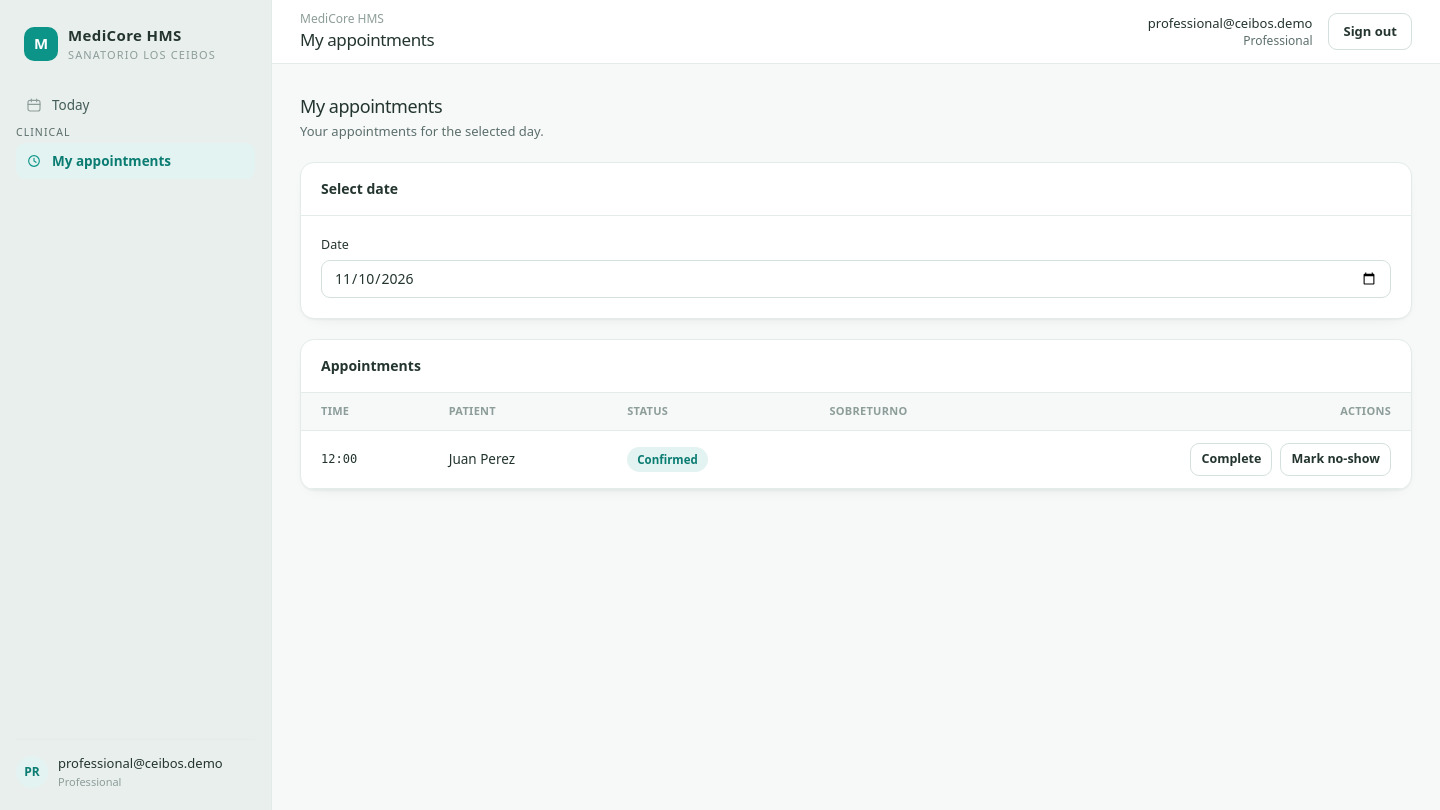
Test: MyAppointmentsPage › completes an appointment and refreshes the list
The image size is (1440, 810).
expect the text "Juan Perez" is shown: met, box [429, 430, 607, 488]
Step 1. Click the button with aria-label "complete appointment" → point(1231, 459), box [1190, 443, 1272, 476]
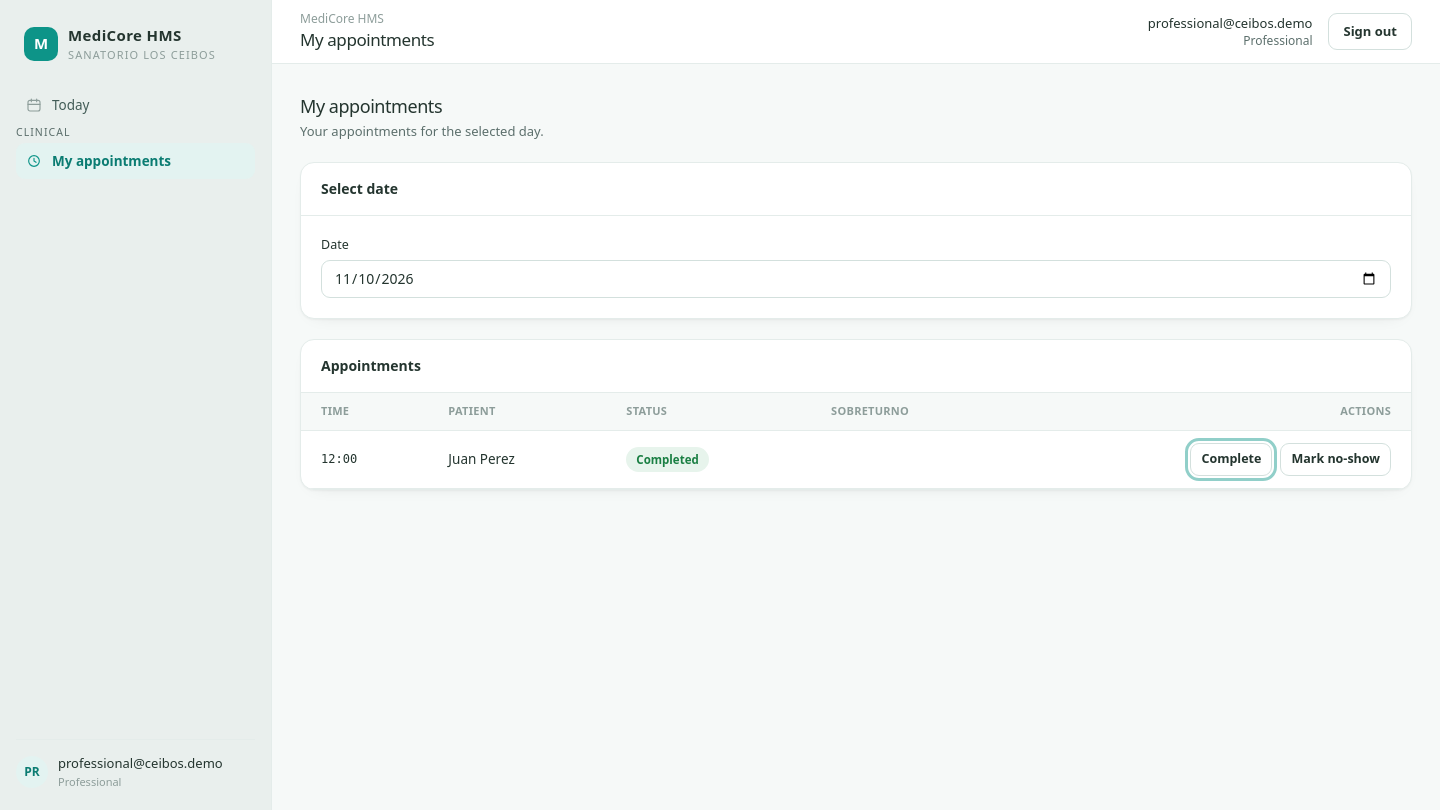
expect the text "Completed" is shown: met, box [626, 446, 709, 472]
